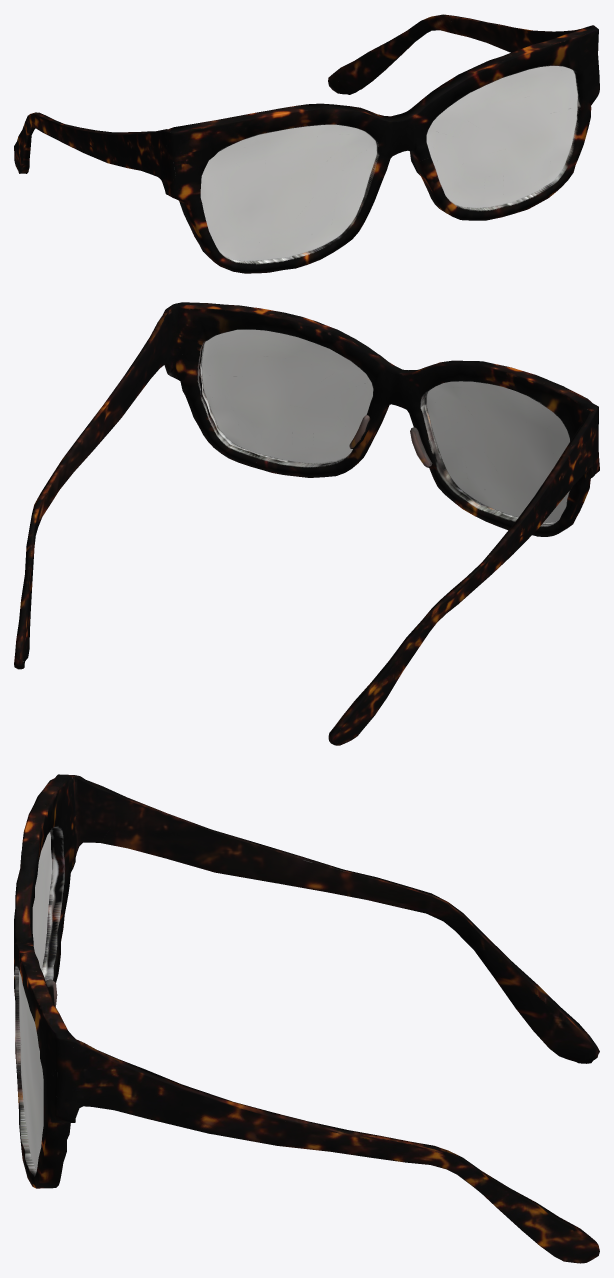
File: frame-002-tortoise-rectangle-v1.glb
The picture shows the model from 3 angles, top to bottom: view 1: azimuth 30°, elevation 25°; view 2: azimuth 150°, elevation 25°; view 3: azimuth 270°, elevation 25°; orthographic projection. The views are drawn at different scales.
Bounding box in the file's own units: 1 × 0.46 × 0.9258.
1 material, 1 textured.
